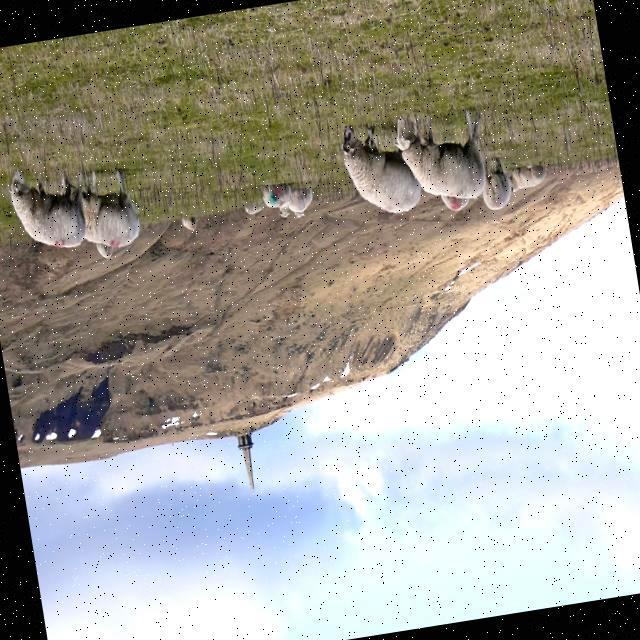sheep: (401, 109, 485, 206), (343, 126, 421, 213), (9, 171, 85, 248), (81, 171, 139, 245), (482, 162, 511, 210)
